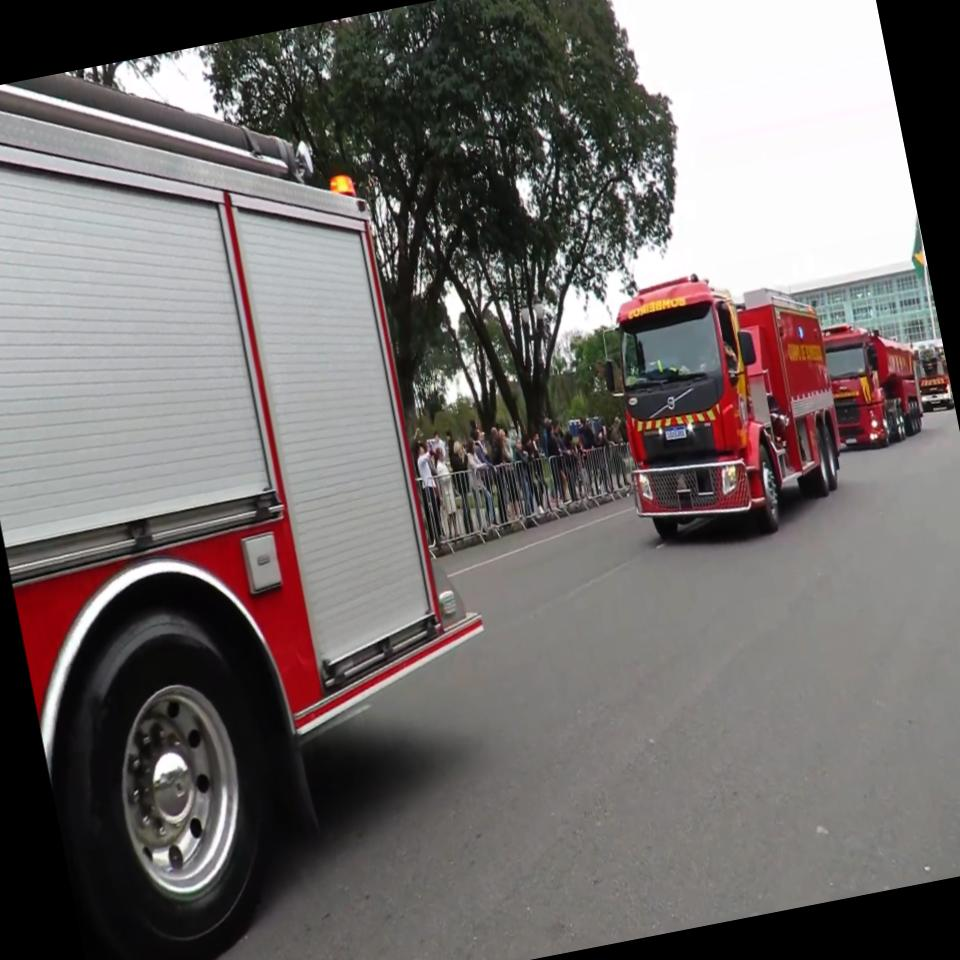viatura: (587, 249, 857, 556), (819, 310, 930, 456)
